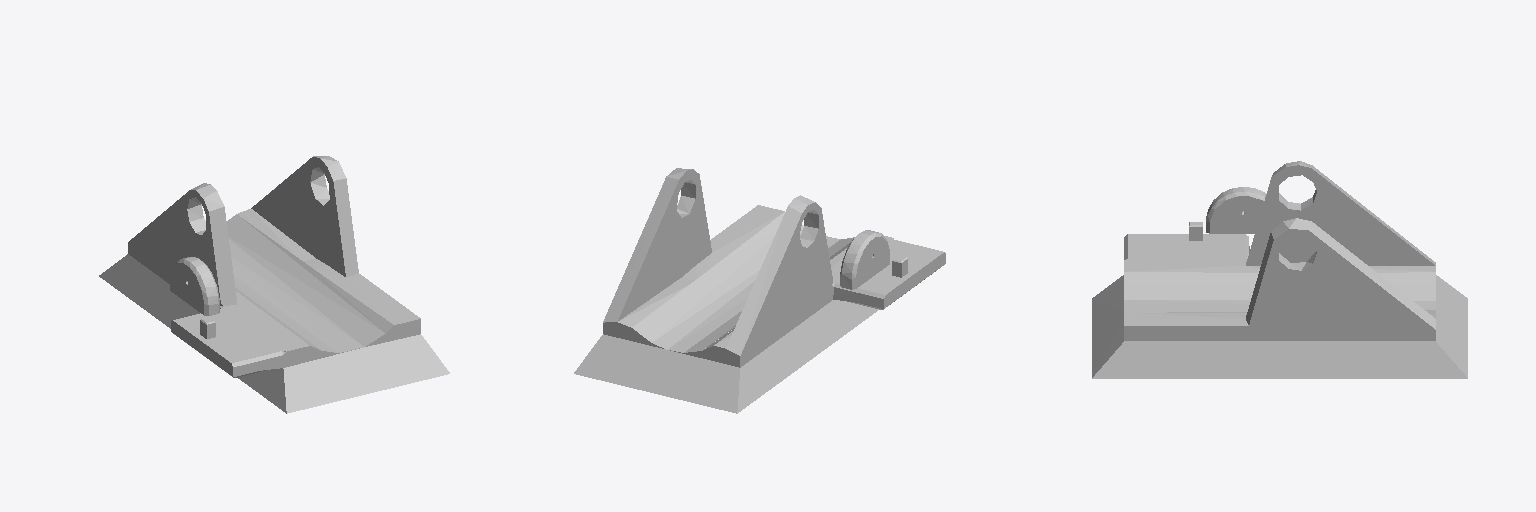
File: drumbase.obj
3 views of the same model, side by side, from view 1: azimuth 30°, elevation 25°; view 2: azimuth 150°, elevation 25°; view 3: azimuth 270°, elevation 25° (orthographic).
Visible parts, largest first — view 1: Cam_holder_thing; view 2: Cam_holder_thing; view 3: Cam_holder_thing.
Boxes of the visible parts, <box> form: Cam_holder_thing: <box>99,156,449,413</box>; Cam_holder_thing: <box>574,168,945,413</box>; Cam_holder_thing: <box>1092,161,1467,378</box>.
Size of the model in its own units: 1.08 by 0.7522 by 1.74.